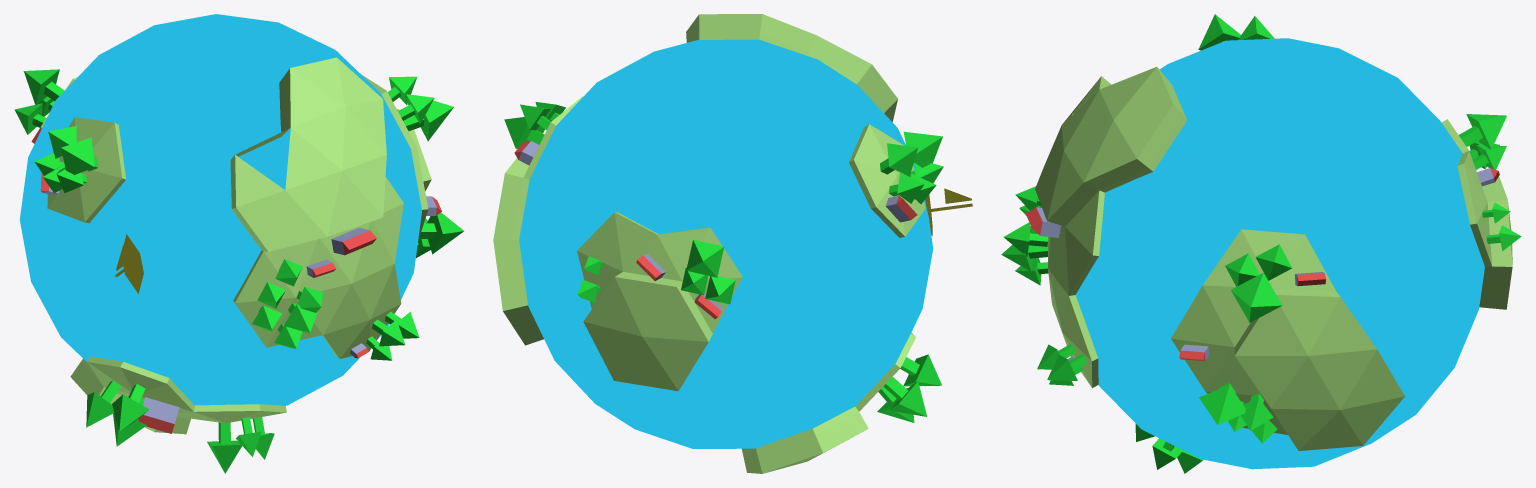
Rendered from world_1.glb.
The picture shows the model from 3 angles, left to right: view 1: azimuth 30°, elevation 25°; view 2: azimuth 150°, elevation 25°; view 3: azimuth 270°, elevation 25°; orthographic projection. The views are drawn at different scales.
Visible parts, largest first — view 1: Icosphere.001_1, Icosphere_0, Plane.027_27, Plane.032_32, Plane.011_11, Plane.017_17, Plane.001_49, Plane.036_37, Plane.013_13, Plane.010_10, Plane.023_23, Plane.046_42 (+11 smaller); view 2: Icosphere.001_1, Icosphere_0, Plane.017_17, Plane.010_10, Plane.011_11, Plane.031_31, Plane.032_32, Plane.023_23, Plane.016_16, Plane.035_35, Plane.036_37, Plane.021_21 (+2 smaller); view 3: Icosphere.001_1, Icosphere_0, Plane.023_23, Plane.027_27, Plane.017_17, Plane.021_21, Plane.032_32, Plane.004_9, Plane.026_26, Plane.029_29, Plane.022_22, Plane.009_8 (+3 smaller).
Part boxes in pixels (<box>): Icosphere.001_1: <box>19,14,421,405</box>; Icosphere_0: <box>40,57,431,434</box>; Plane.027_27: <box>419,212,463,254</box>; Plane.032_32: <box>61,137,98,174</box>; Plane.011_11: <box>112,384,149,431</box>; Plane.017_17: <box>23,69,64,105</box>; Plane.001_49: <box>138,397,179,433</box>; Plane.036_37: <box>115,234,143,293</box>; Plane.013_13: <box>207,422,241,473</box>; Plane.010_10: <box>86,380,121,427</box>; Plane.023_23: <box>403,95,453,141</box>; Plane.046_42: <box>331,227,376,255</box>; Icosphere.001_1: <box>519,39,933,448</box>; Icosphere_0: <box>493,14,925,473</box>; Plane.017_17: <box>686,239,723,277</box>; Plane.010_10: <box>883,376,927,416</box>; Plane.011_11: <box>900,354,941,386</box>; Plane.031_31: <box>880,143,917,176</box>; Plane.032_32: <box>903,131,942,167</box>; Plane.023_23: <box>504,117,544,148</box>; Plane.016_16: <box>705,276,735,304</box>; Plane.035_35: <box>889,173,924,203</box>; Plane.036_37: <box>925,188,972,235</box>; Plane.021_21: <box>520,104,550,130</box>; Icosphere.001_1: <box>1075,38,1484,469</box>; Icosphere_0: <box>1035,67,1512,450</box>; Plane.023_23: <box>1231,273,1282,322</box>; Plane.027_27: <box>1199,383,1245,424</box>; Plane.017_17: <box>1459,114,1506,149</box>; Plane.021_21: <box>1255,244,1291,280</box>; Plane.032_32: <box>1198,14,1240,50</box>; Plane.004_9: <box>1003,222,1048,256</box>; Plane.026_26: <box>1240,393,1273,430</box>; Plane.029_29: <box>1047,354,1087,380</box>; Plane.022_22: <box>1225,253,1259,286</box>; Plane.009_8: <box>1001,244,1047,271</box>.
Bounding box in the file's own units: 2.54 × 2.35 × 2.55.
